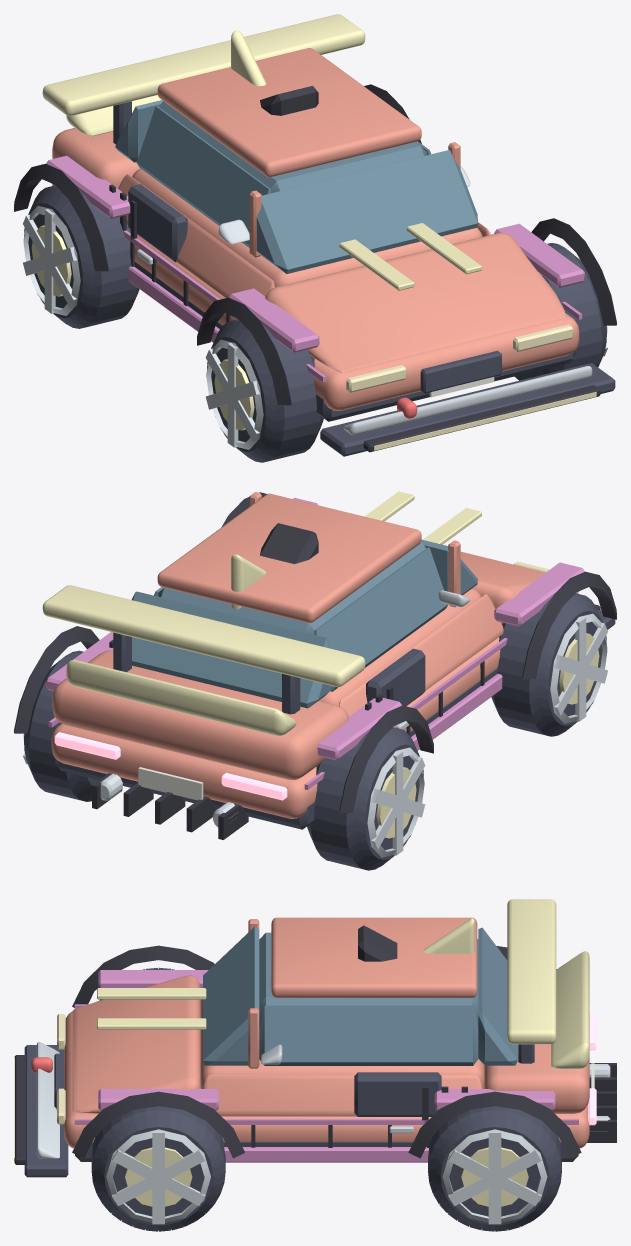
File: cornerfire.fbx
3 renders of one model, top to bottom at view 1: azimuth 30°, elevation 25°; view 2: azimuth 150°, elevation 25°; view 3: azimuth 270°, elevation 25°, orthographic. The views are drawn at different scales.
Visible parts, largest first — view 1: Body, Glass, Trim, Accent2, Trim2, Accent, Metal, Wheel_FR, Wheel_RR, Accent3, Wheel_FL, Light (+2 smaller); view 2: Body, Accent2, Glass, Trim, Metal, Accent, Wheel_RR, Wheel_FR, Trim2, Wheel_RL, Light2, Metal2 (+2 smaller); view 3: Body, Glass, Trim, Accent2, Metal, Accent, Wheel_FL, Wheel_RL, Trim2, Light3, Metal2, Accent3 (+2 smaller).
Part boxes in pixels (box(x1,y1,x2,y2)): Body: box(52, 48, 579, 410); Glass: box(115, 100, 477, 273); Trim: box(14, 84, 616, 452); Accent2: box(42, 14, 365, 136); Trim2: box(113, 101, 615, 456); Accent: box(46, 155, 584, 382); Metal: box(23, 205, 607, 449); Wheel_FR: box(207, 319, 323, 462); Wheel_RR: box(24, 185, 139, 328); Accent3: box(218, 166, 592, 435); Wheel_FL: box(514, 243, 606, 380); Light: box(346, 324, 596, 450); Body: box(51, 492, 578, 818); Accent2: box(42, 554, 365, 735); Glass: box(131, 539, 477, 708); Trim: box(14, 492, 616, 839); Metal: box(23, 613, 607, 857); Accent: box(46, 497, 584, 789); Wheel_RR: box(307, 727, 423, 870); Wheel_FR: box(491, 593, 606, 736); Trim2: box(55, 609, 615, 829); Wheel_RL: box(24, 650, 98, 801); Light2: box(54, 732, 287, 800); Metal2: box(376, 633, 599, 838); Body: box(64, 917, 589, 1148); Glass: box(203, 927, 517, 1065); Trim: box(14, 925, 616, 1164); Accent2: box(259, 899, 589, 1068); Metal: box(106, 1064, 610, 1224); Accent: box(74, 970, 578, 1162); Wheel_FL: box(91, 1106, 225, 1231); Wheel_RL: box(428, 1106, 561, 1231); Trim2: box(24, 1044, 578, 1177); Light3: box(97, 988, 206, 1029); Metal2: box(125, 1147, 528, 1206); Accent3: box(36, 1042, 282, 1158).
Size of the model in its own units: 3.21 by 2.29 by 5.18.
